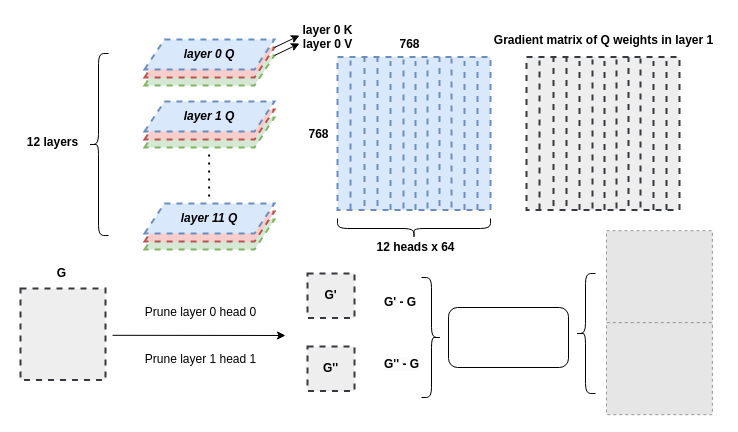
The diagram is 738 pixels wide and 432 high, and some of its shapes have lost their labels. Grey dashed boxes stand in for pictures. The shapes that lost their labels are listed below. From the top down, each one's box as (x1, y1, x2, y2) in pixels, then its label:
(19, 287, 106, 380): Gradient Matrix of Q Weights
(448, 306, 568, 368): Downsampling average pooling operation(64x64)
